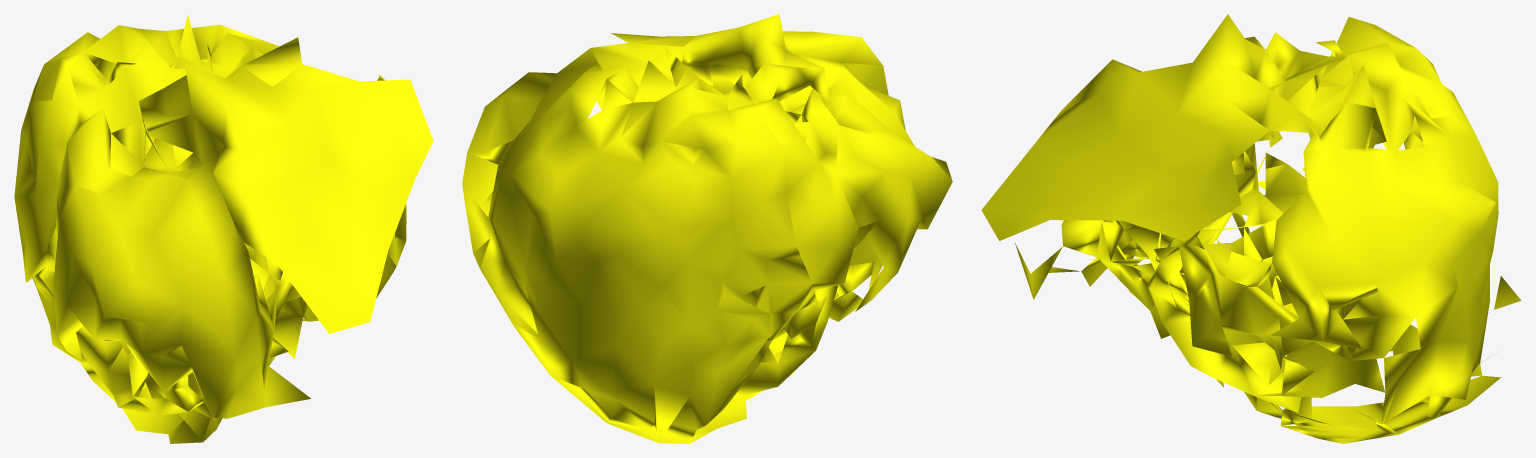
File: Unity2Skfb.gltf
3 renders of one model, left to right at view 1: azimuth 30°, elevation 25°; view 2: azimuth 150°, elevation 25°; view 3: azimuth 270°, elevation 25°, orthographic. The views are drawn at different scales.
Visible parts, largest first — view 1: transform; view 2: transform; view 3: transform.
Boxes of the visible parts, <box> form: transform: <box>14,14,433,443</box>; transform: <box>462,14,952,443</box>; transform: <box>981,14,1521,443</box>.
Size of the model in its own units: 0.0373 by 0.036 by 0.0444.
